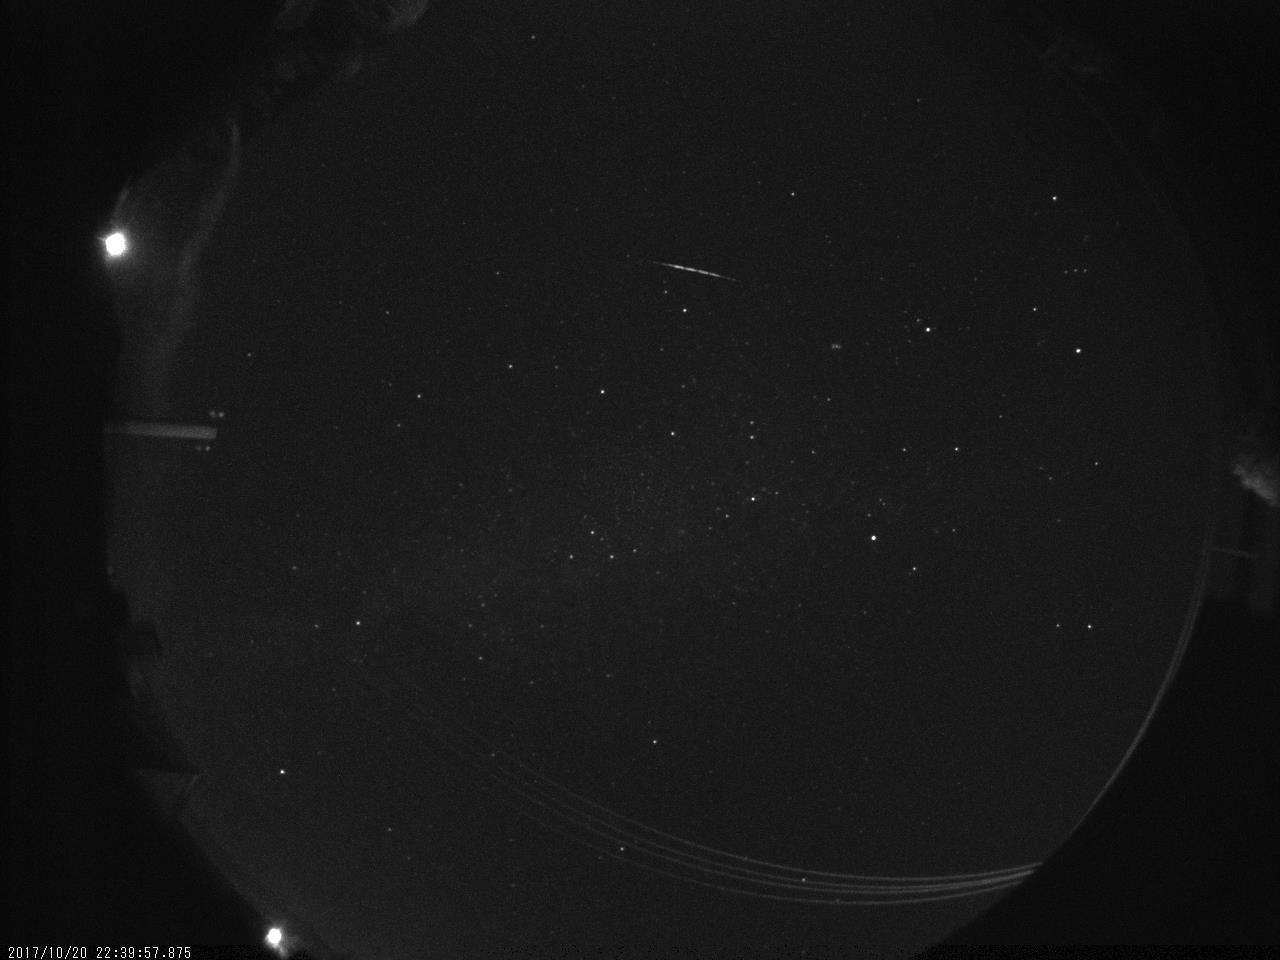Meteor: (651, 258, 738, 285)
